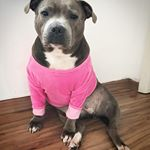puppy: (22, 1, 101, 57)
